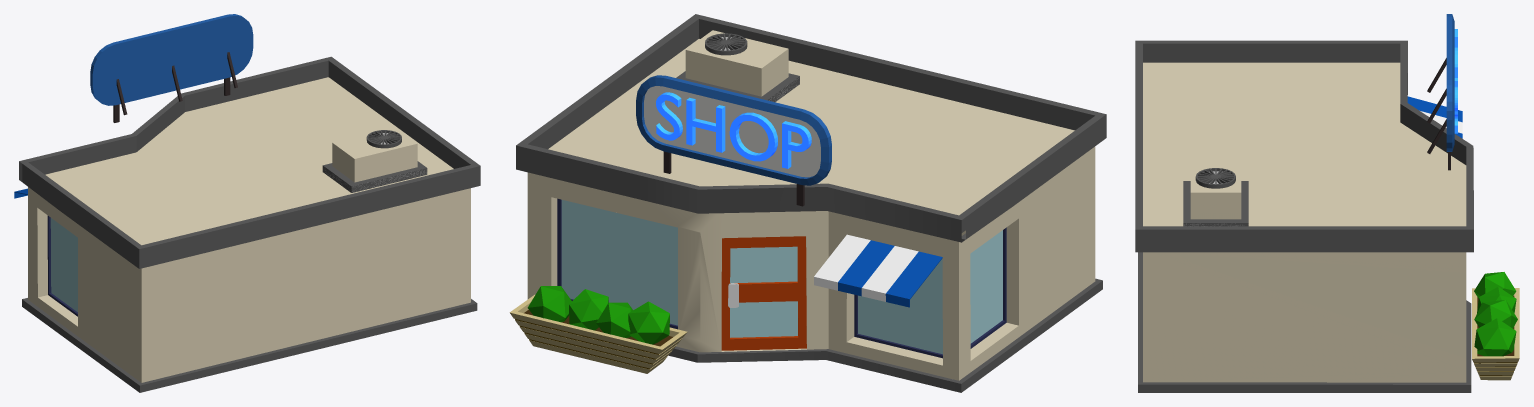
The model's file is shop-general-mini_night.glb.
3 renders of one model, left to right at view 1: azimuth 30°, elevation 25°; view 2: azimuth 150°, elevation 25°; view 3: azimuth 270°, elevation 25°, orthographic. The views are drawn at different scales.
Parts seen in each view (by area): view 1: pCube1, sign_2, pCube5, sign_0; view 2: pCube1, sign_1, pCube5, pCube3, sign_2, sign_letters, pPlatonic1, pPlatonic3, pPlatonic4, pPlatonic2; view 3: pCube1, pCube5, pCube3, pPlatonic3, sign_2, pPlatonic4, pPlatonic1, sign_0, pPlatonic2, sign_letters.
Boxes of the visible parts, <box> form: pCube1: <box>14,56,480,392</box>; sign_2: <box>90,14,253,105</box>; pCube5: <box>322,127,427,192</box>; sign_0: <box>113,52,237,122</box>; pCube1: <box>516,14,1106,392</box>; sign_1: <box>644,86,820,177</box>; pCube5: <box>676,30,799,102</box>; pCube3: <box>509,294,687,373</box>; sign_2: <box>636,75,831,185</box>; sign_letters: <box>656,92,811,168</box>; pPlatonic1: <box>628,301,669,344</box>; pPlatonic3: <box>527,286,571,322</box>; pPlatonic4: <box>569,289,608,330</box>; pPlatonic2: <box>596,302,632,337</box>; pCube1: <box>1135,40,1473,392</box>; pCube5: <box>1183,157,1248,226</box>; pCube3: <box>1472,288,1519,380</box>; pPlatonic3: <box>1474,318,1516,356</box>; sign_2: <box>1446,14,1454,151</box>; pPlatonic4: <box>1474,300,1517,328</box>; pPlatonic1: <box>1474,272,1516,298</box>; sign_0: <box>1427,58,1450,170</box>; pPlatonic2: <box>1477,286,1516,313</box>; sign_letters: <box>1454,29,1457,133</box>.
Bounding box in the file's own units: 4.26 × 2.67 × 3.66.
